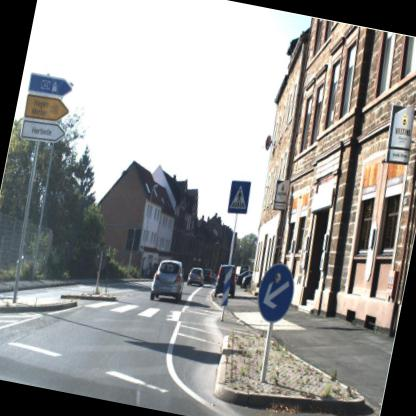mandatory: (250, 256, 303, 335), (220, 167, 257, 218)
